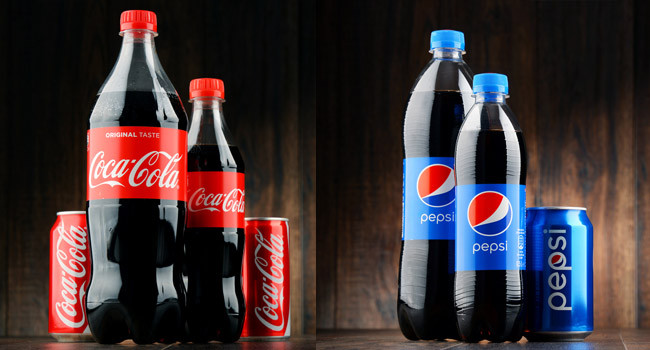pepsi: (463, 188, 513, 235), (466, 188, 513, 235), (466, 189, 513, 235), (466, 189, 511, 235), (415, 161, 455, 207), (549, 251, 564, 266)
